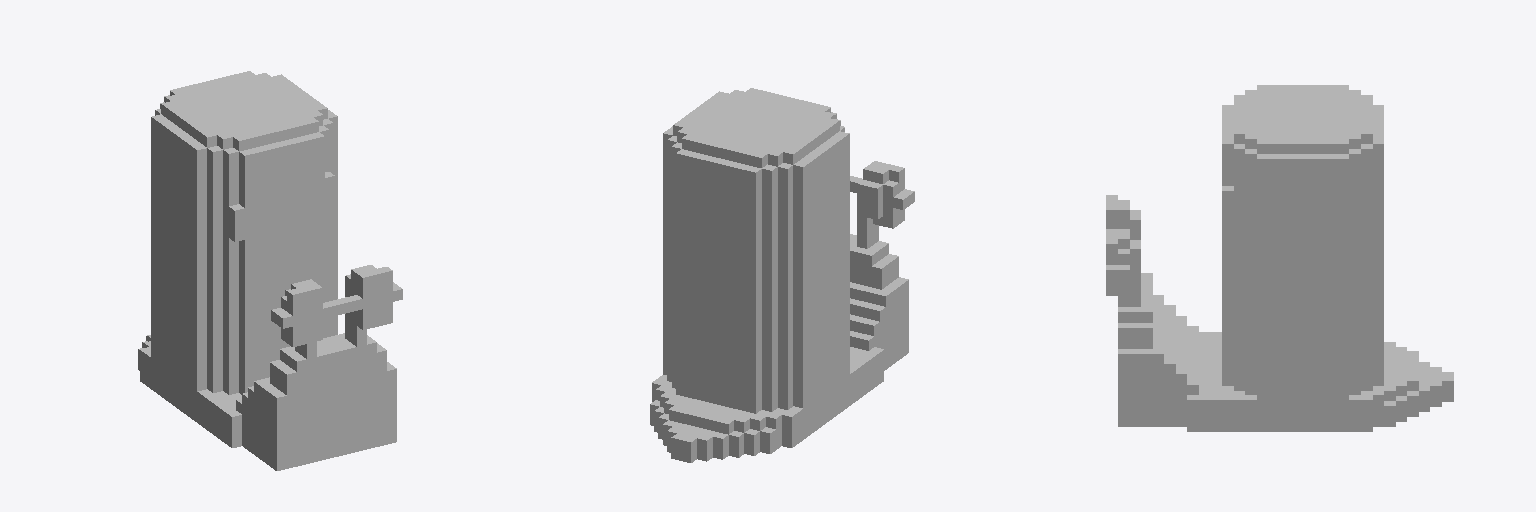
The model's file is Slurpaslime.obj.
3 views of the same model, side by side, from view 1: azimuth 30°, elevation 25°; view 2: azimuth 150°, elevation 25°; view 3: azimuth 270°, elevation 25° (orthographic).
Visible parts, largest first — view 1: object 1; view 2: object 1; view 3: object 1.
Boxes of the visible parts, x1,y1,x2,y2 form: object 1: [138, 71, 402, 470]; object 1: [650, 88, 914, 462]; object 1: [1106, 85, 1453, 431].
Bounding box in the file's own units: 1.4 × 2.7 × 3.